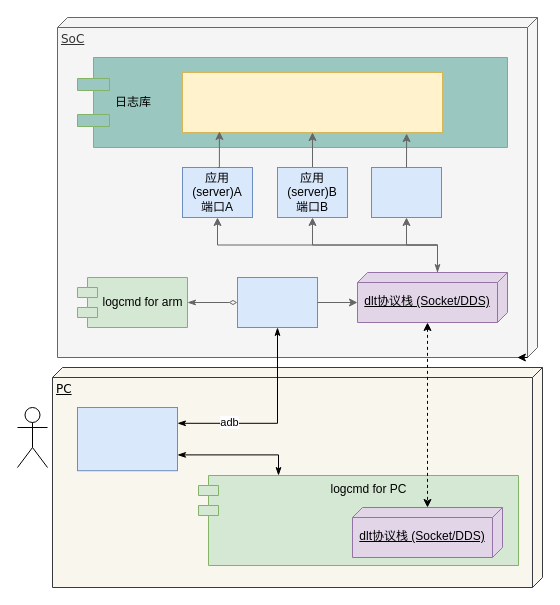
Image size: 560x605. Some labels were removed from this diagram. The shapes that lost their labels are listed below. From the top down, each one's centre as x and y in pixels, then its label:
At pixel 312 102: "«interface» 日志库接口".
At pixel 406 192: "应用 (server)C 端口C".
At pixel 277 302: "logcmd (local client)".
At pixel 127 438: "PC 终端".
